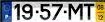1: (12, 2, 20, 21)
5: (39, 3, 51, 21)
7: (51, 3, 63, 21)
9: (20, 3, 34, 21)
M: (67, 3, 83, 21)
T: (83, 3, 94, 21)
